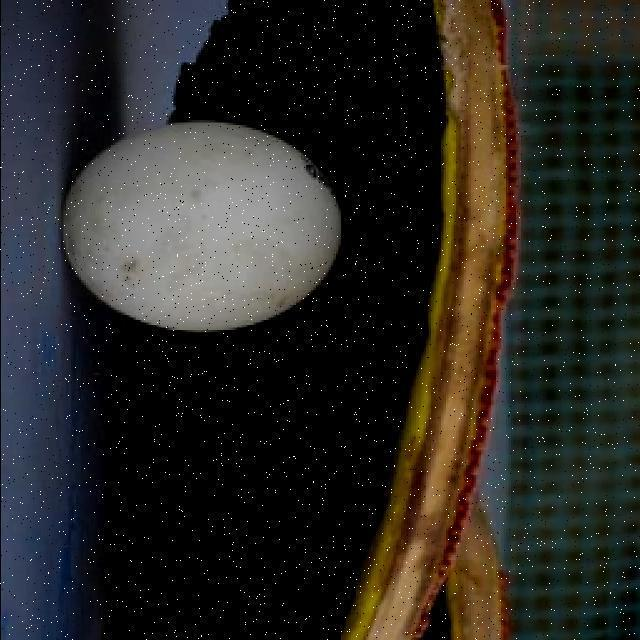ping-pong-ball: (61, 122, 340, 336)
